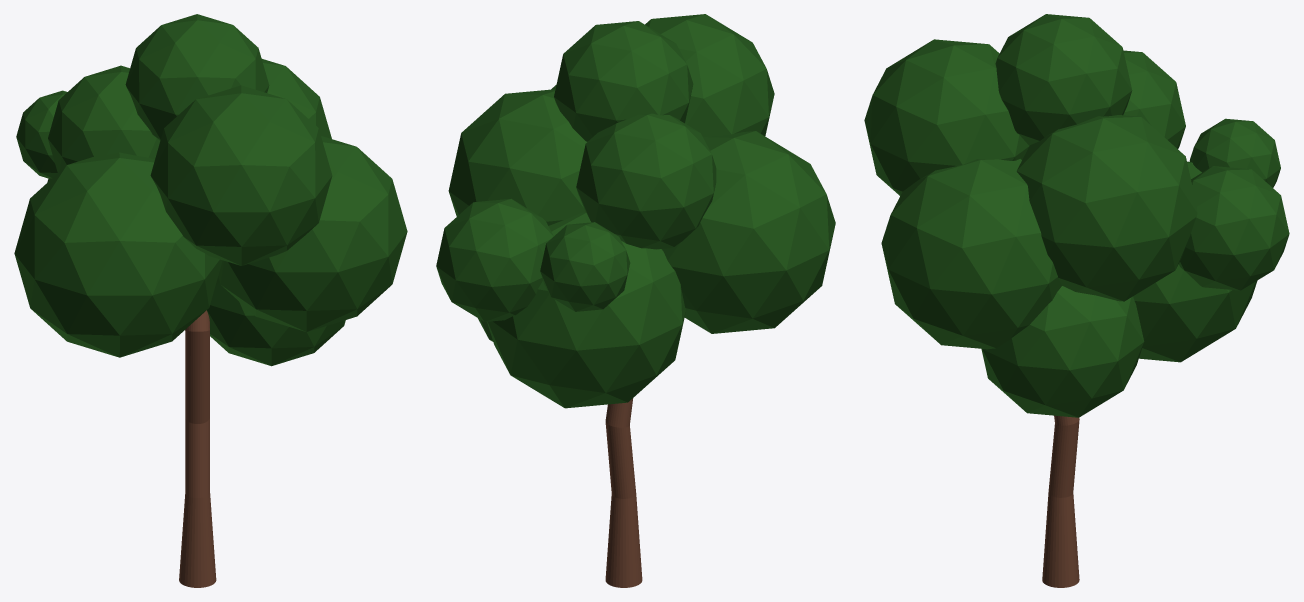
File: M_Tree_02 (1).fbx
3 views of the same model, side by side, from view 1: azimuth 30°, elevation 25°; view 2: azimuth 150°, elevation 25°; view 3: azimuth 270°, elevation 25° (orthographic).
Parts seen in each view (by area): view 1: Icosphere.077, Icosphere.072, Icosphere.073, Icosphere.070, Cylinder.035, Icosphere.078, Icosphere.075, Icosphere.079, Icosphere.071; view 2: Icosphere.077, Icosphere.076, Icosphere.078, Icosphere.071, Icosphere.070, Icosphere.074, Icosphere.072, Icosphere.079, Cylinder.035; view 3: Icosphere.073, Icosphere.071, Icosphere.072, Icosphere.075, Icosphere.070, Icosphere.074, Icosphere.076, Cylinder.035, Icosphere.079, Icosphere.078.
Part boxes in pixels (bbox=[...]): Icosphere.077: bbox=[14, 152, 222, 357]; Icosphere.072: bbox=[150, 85, 332, 265]; Icosphere.073: bbox=[218, 136, 407, 331]; Icosphere.070: bbox=[125, 14, 269, 140]; Cylinder.035: bbox=[179, 310, 216, 587]; Icosphere.078: bbox=[48, 65, 159, 172]; Icosphere.075: bbox=[207, 276, 345, 366]; Icosphere.079: bbox=[16, 90, 67, 178]; Icosphere.071: bbox=[262, 59, 331, 138]; Icosphere.077: bbox=[662, 131, 835, 333]; Icosphere.076: bbox=[487, 212, 685, 408]; Icosphere.078: bbox=[576, 113, 716, 249]; Icosphere.071: bbox=[448, 89, 586, 225]; Icosphere.070: bbox=[554, 21, 693, 141]; Icosphere.074: bbox=[436, 198, 553, 321]; Icosphere.072: bbox=[645, 14, 774, 136]; Icosphere.079: bbox=[540, 222, 630, 311]; Cylinder.035: bbox=[605, 398, 642, 587]; Icosphere.073: bbox=[881, 159, 1061, 349]; Icosphere.071: bbox=[1016, 115, 1197, 301]; Icosphere.072: bbox=[864, 39, 1029, 195]; Icosphere.075: bbox=[981, 286, 1144, 417]; Icosphere.070: bbox=[995, 14, 1132, 145]; Icosphere.074: bbox=[1179, 166, 1289, 290]; Icosphere.076: bbox=[1133, 161, 1257, 362]; Cylinder.035: bbox=[1042, 415, 1079, 587]; Icosphere.079: bbox=[1189, 118, 1280, 187]; Icosphere.078: bbox=[1123, 50, 1185, 148].
Bounding box in the file's own units: 399 × 627 × 430.
